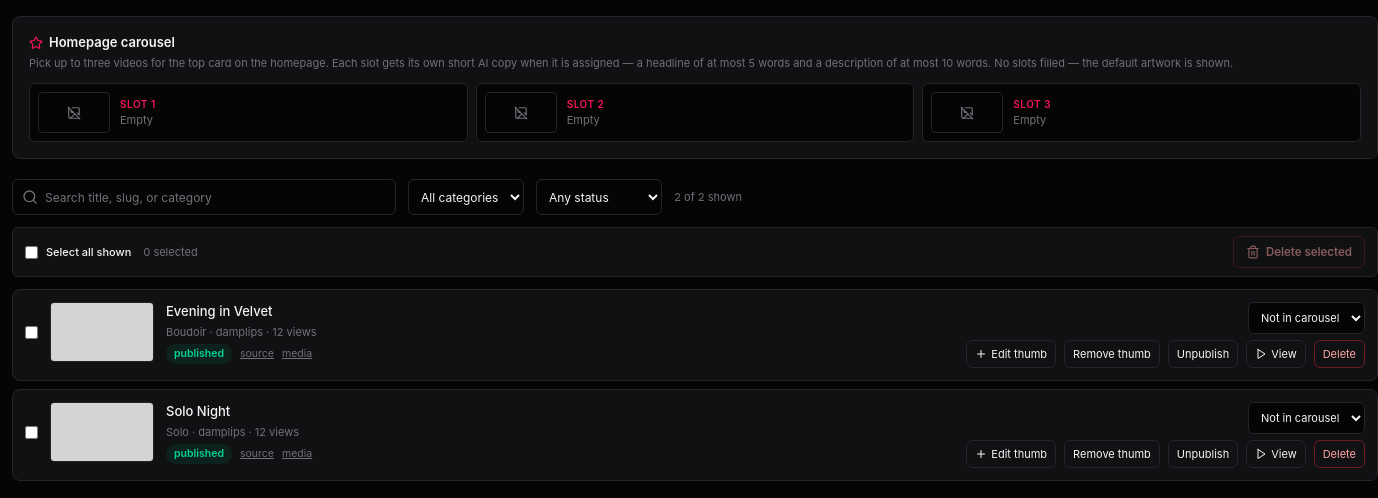
Test: VideoManager — categories, select all, carousel, bulk actions › selects every shown video with one checkbox and clears it again
This screenshot has width=1378, height=498.
Click the checkbox named "Select all shown videos" at (32,252), box [25,246,38,259]
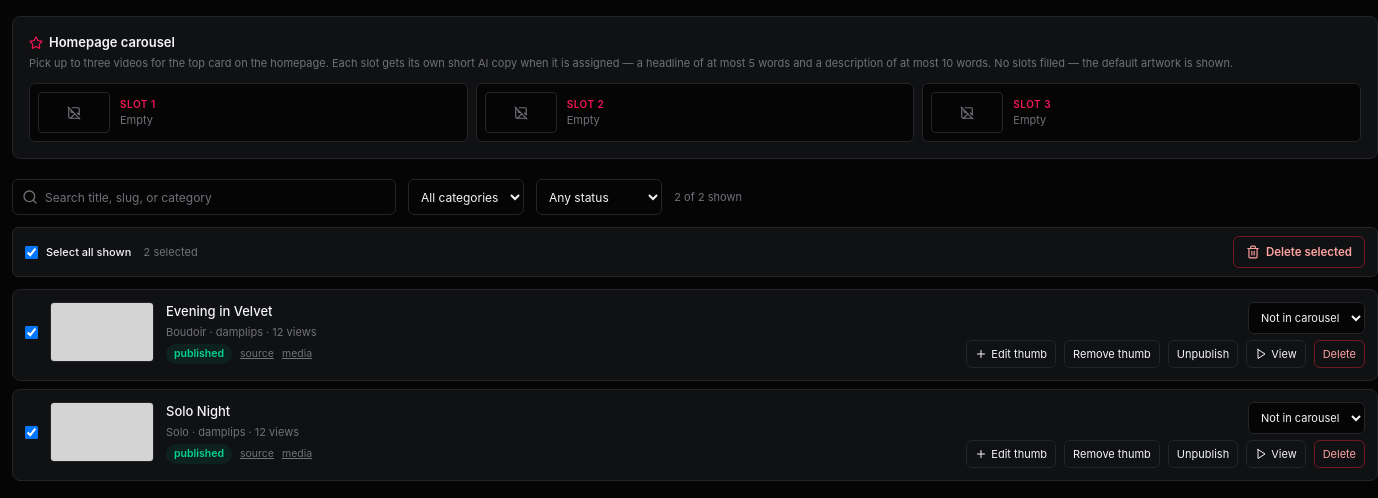
Now the text "2 selected" is shown, box [143,244,198,261]
Now the checkbox named "Select Solo Night" is checked, box [25,426,38,439]
Click the checkbox named "Select all shown videos" at (32,252), box [25,246,38,259]
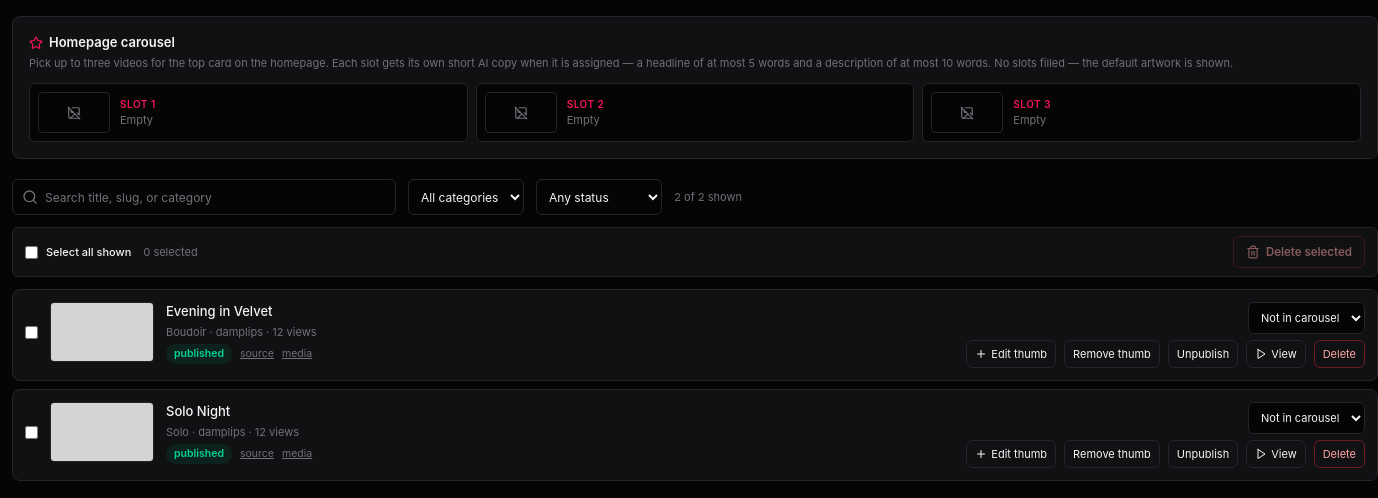
Now the text "0 selected" is shown, box [143,244,198,261]
